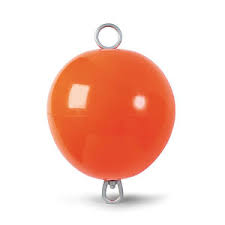buoy: (48, 48, 175, 180)
